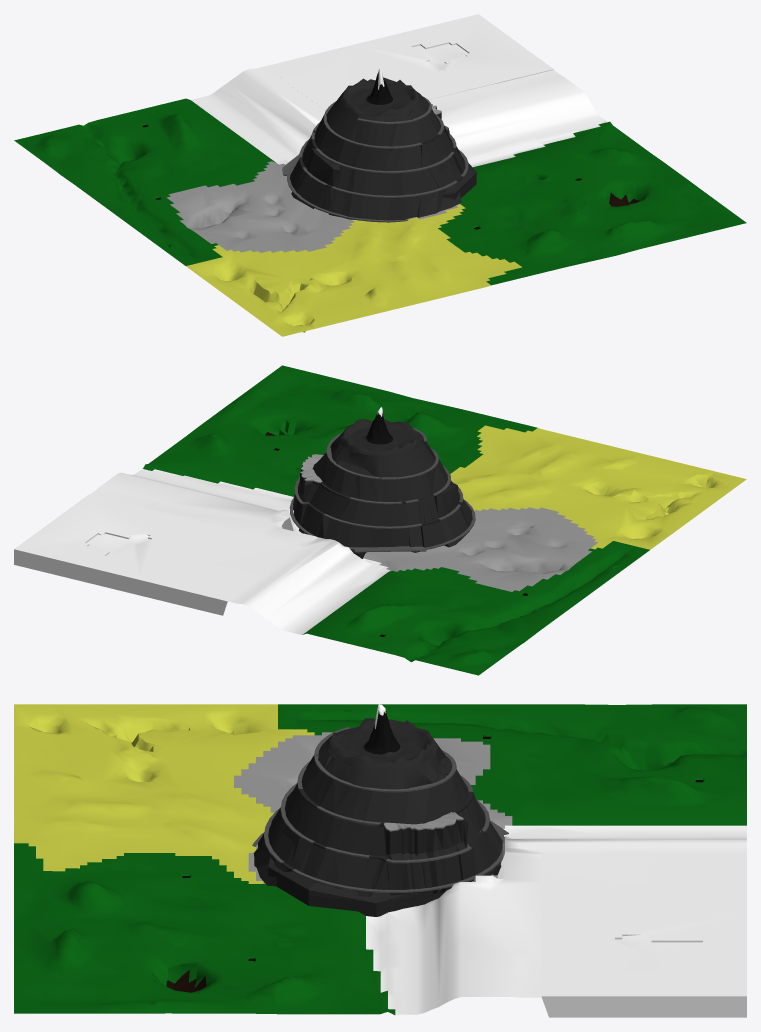
Rendered from mmm.fbx.
3 views of the same model, one above another, from view 1: azimuth 30°, elevation 25°; view 2: azimuth 150°, elevation 25°; view 3: azimuth 270°, elevation 25° (orthographic). The views are drawn at different scales.
Parts seen in each view (by area): view 1: Plane002, Cylinder001; view 2: Plane002, Cylinder001; view 3: Plane002, Cylinder001, Cylinder002.
Part boxes in pixels (x1,y1,x2,y2): Plane002: (14,14,746,336); Cylinder001: (282,69,468,222); Plane002: (14,365,746,675); Cylinder001: (289,407,475,552); Plane002: (14,704,746,1017); Cylinder001: (252,704,508,900); Cylinder002: (268,853,501,916).
Bounding box in the file's own units: 35000 × 10707 × 35001.
